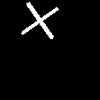single_crochet: (21, 2, 58, 38)
